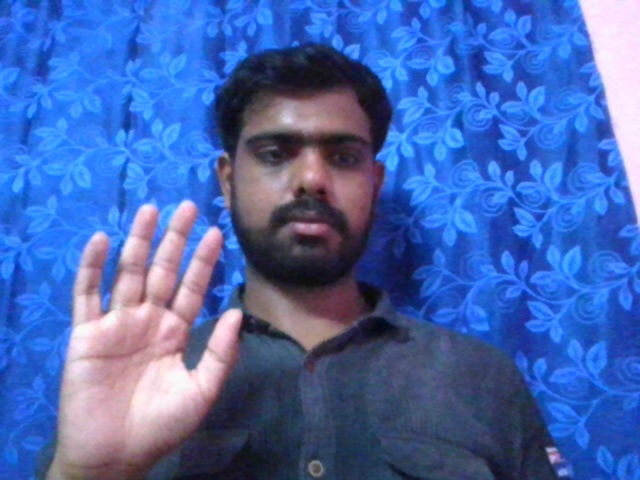Hello: (59, 199, 242, 464)
